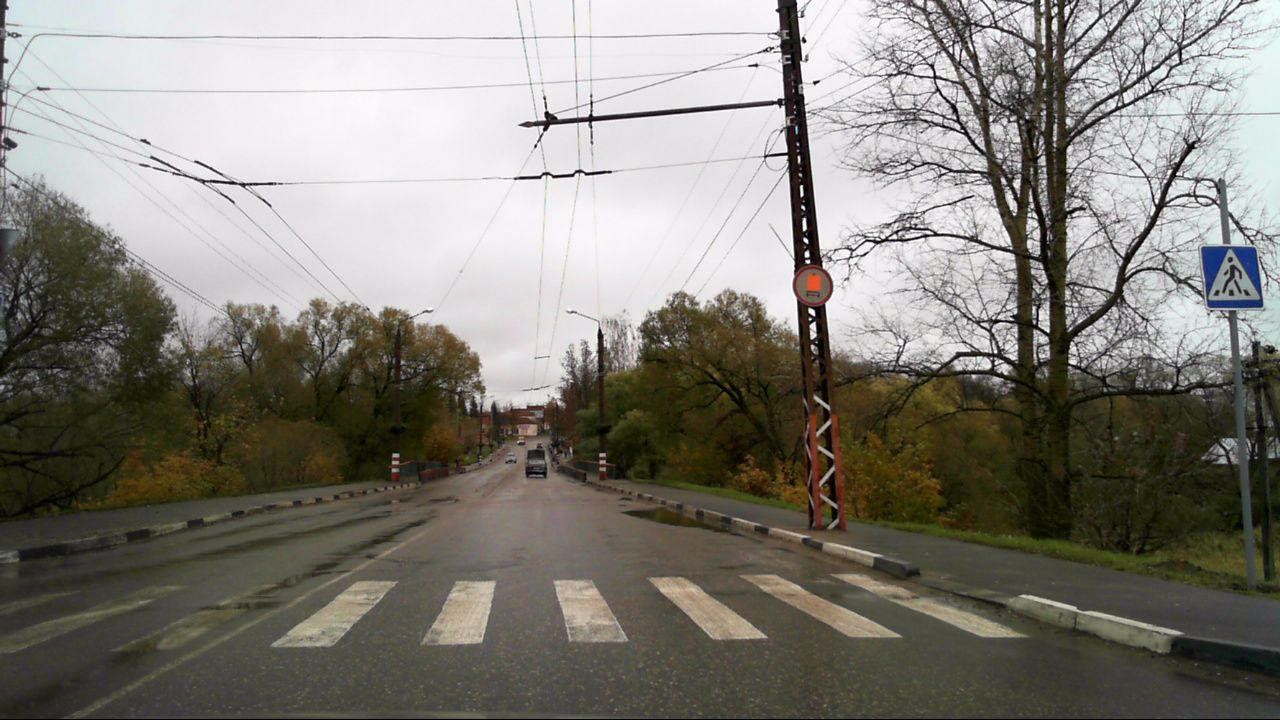3_32: (790, 260, 835, 309)
5_19_1: (1196, 244, 1270, 310)
